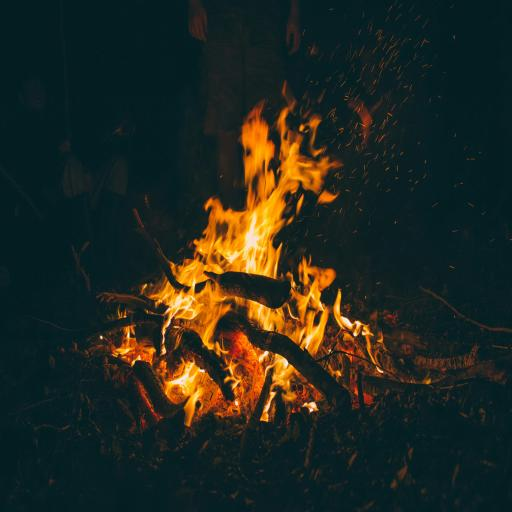campfire: (52, 88, 458, 436)
